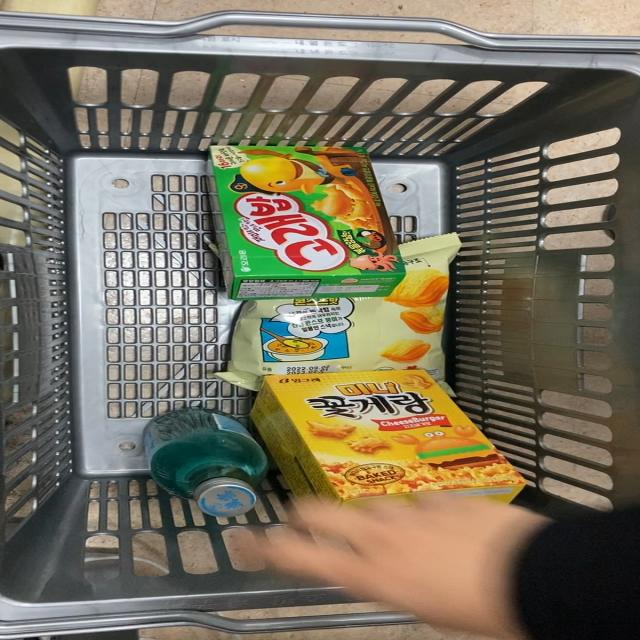ggobukchip: (220, 292, 489, 382)
goraebob: (197, 141, 407, 288)
jinro: (131, 397, 294, 513)
minicrab: (270, 378, 532, 490)
